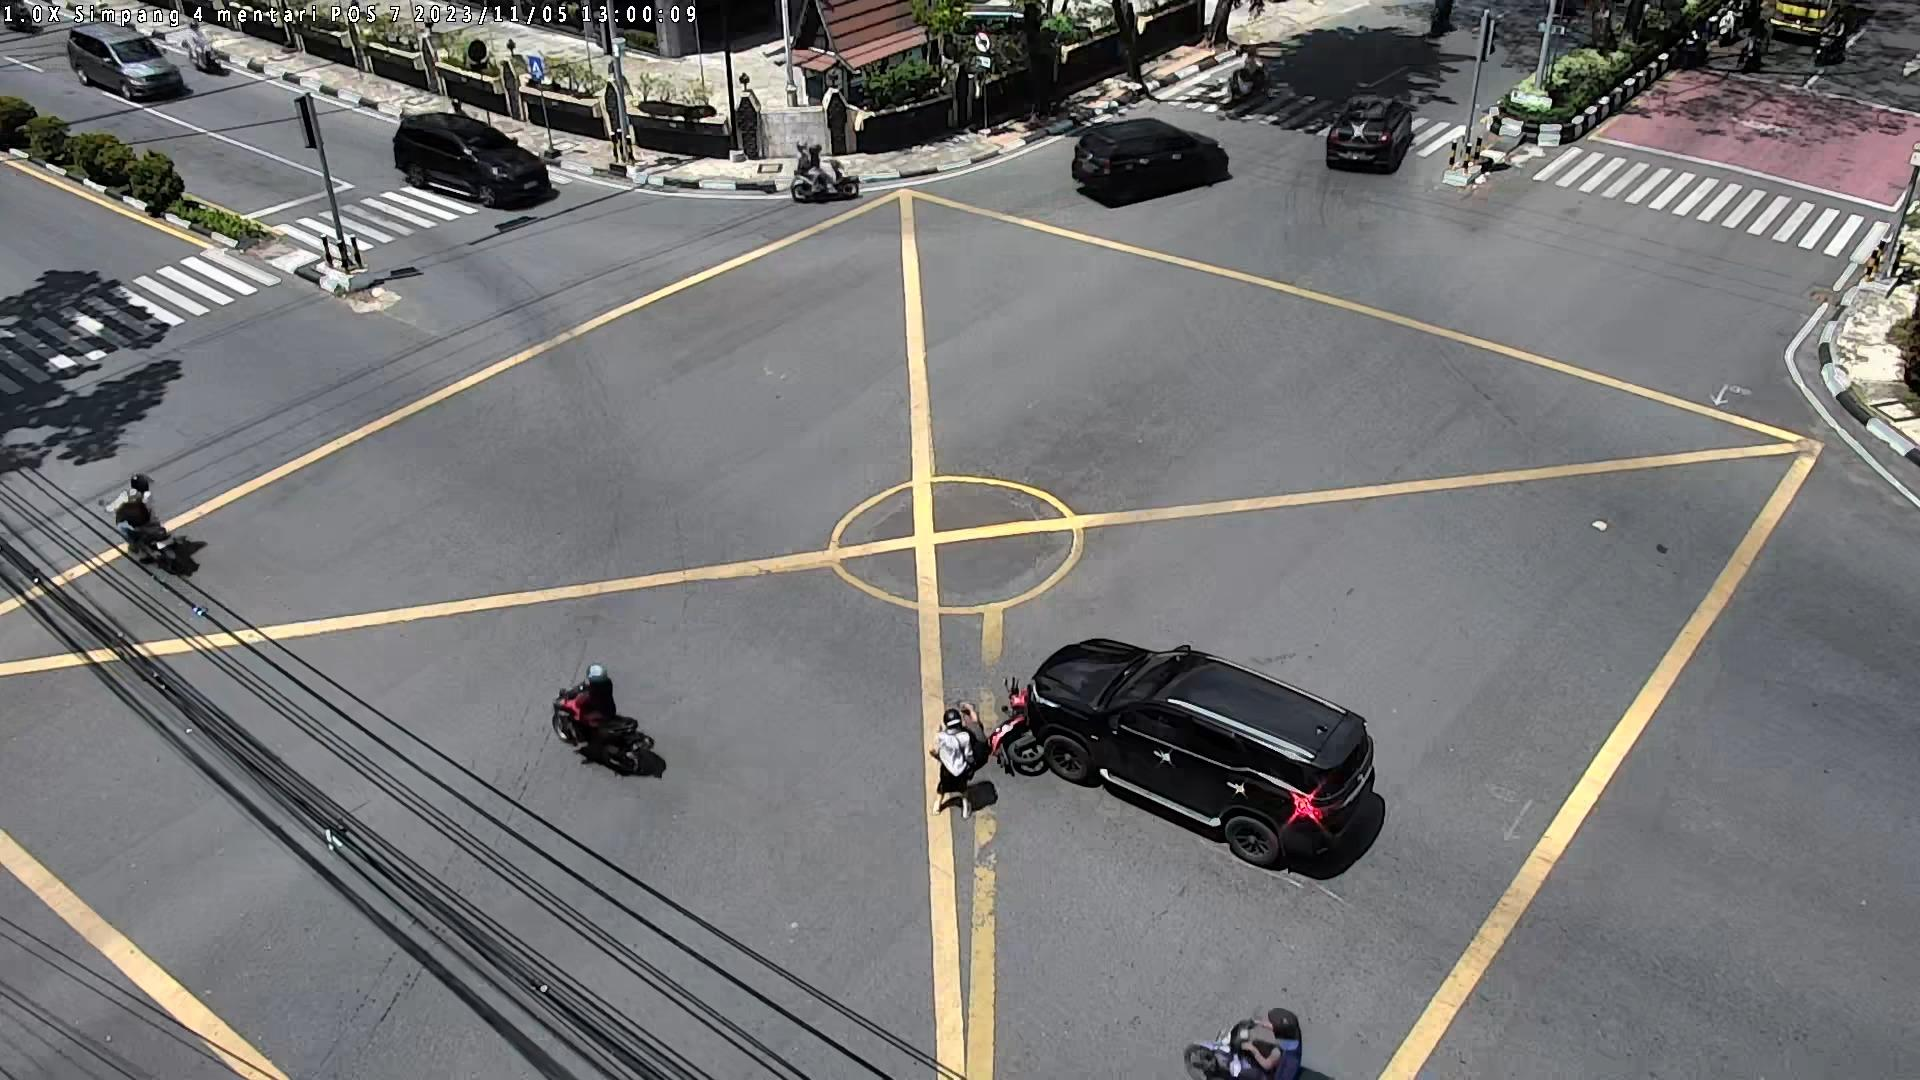accident: (957, 702, 989, 775)
